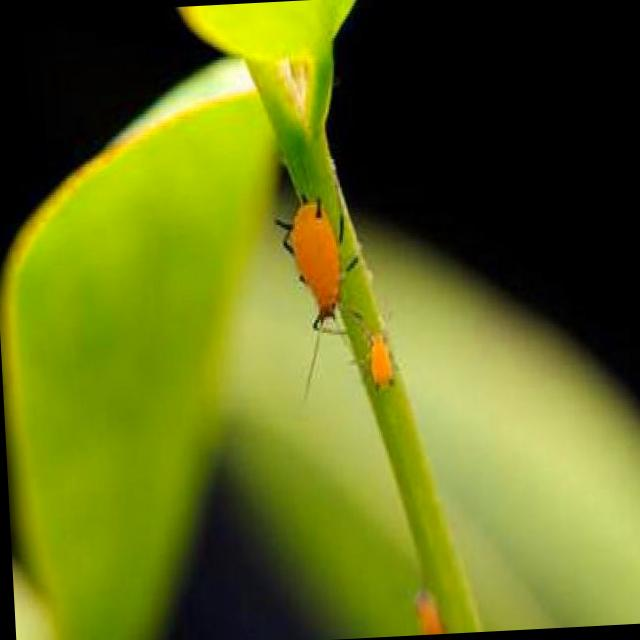aphid: (270, 192, 349, 336), (368, 317, 402, 418)
